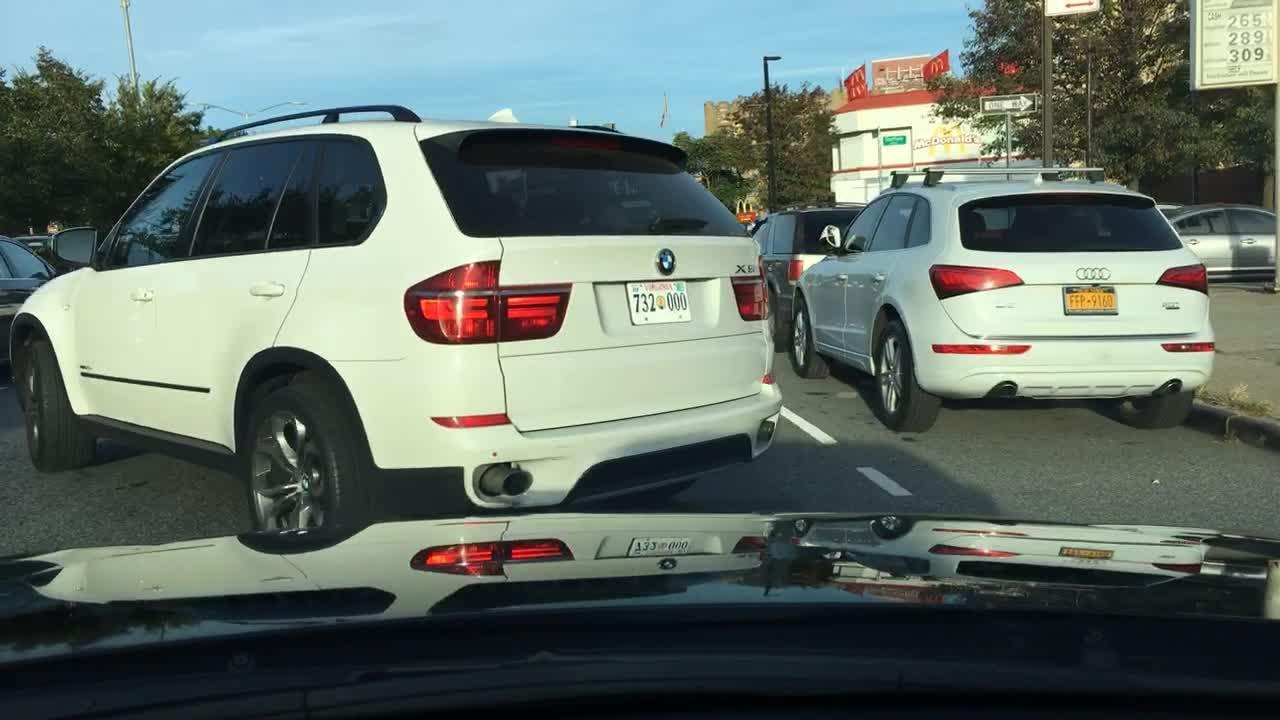Audi: (1073, 264, 1115, 283)
bmw: (652, 243, 680, 281)
